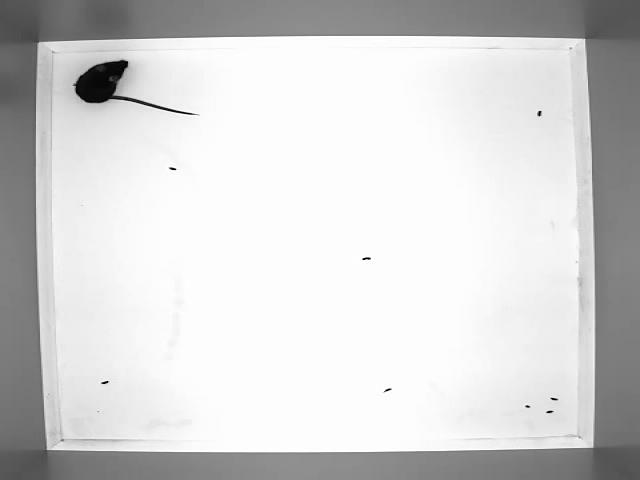Tikus: (67, 54, 214, 122)
